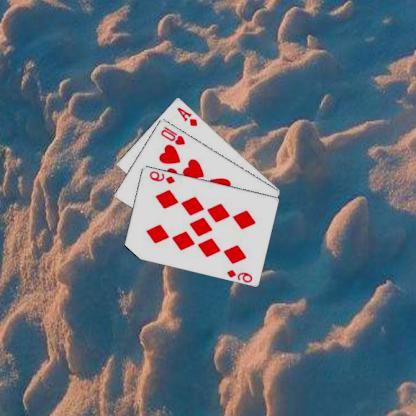10H: (160, 123, 188, 146)
9D: (148, 168, 178, 185), (226, 266, 255, 283)
AD: (176, 104, 200, 128)
